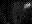person: (24, 2, 31, 9)
